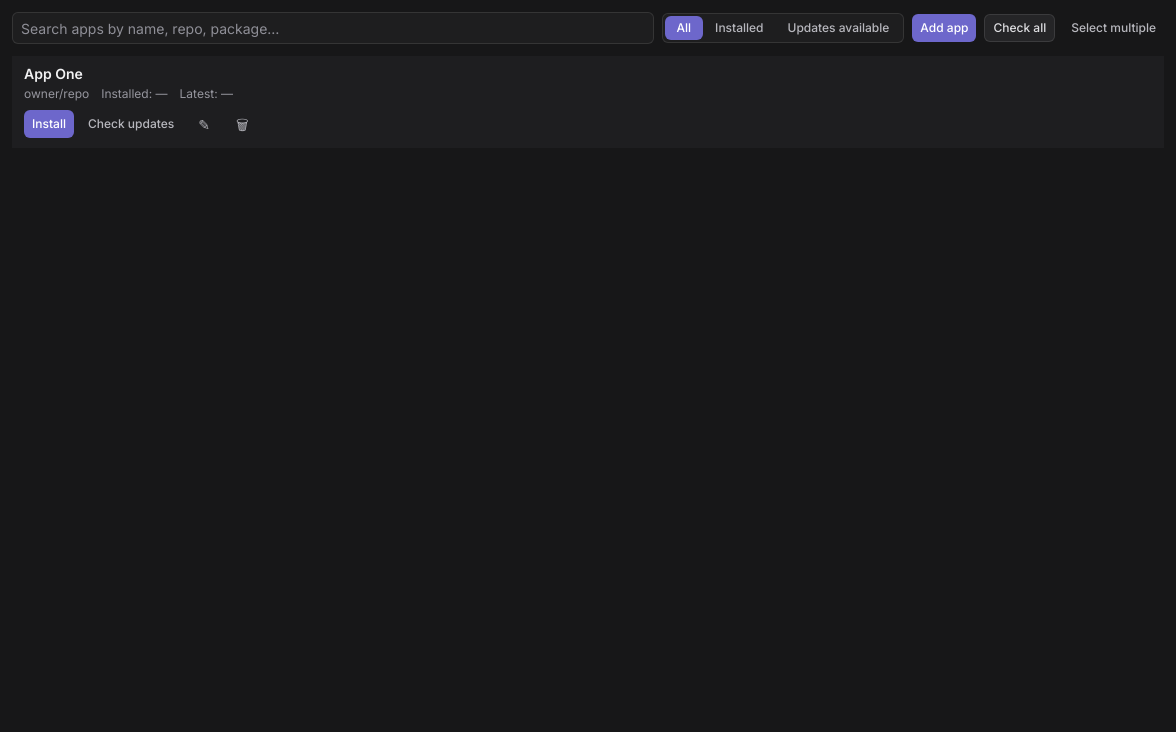
Scenario: error notification › renders a persistent alert when an action rejects
This screenshot has width=1176, height=732.
Click the button named "Install App One": click(49, 124) 24,110 -> 74,138
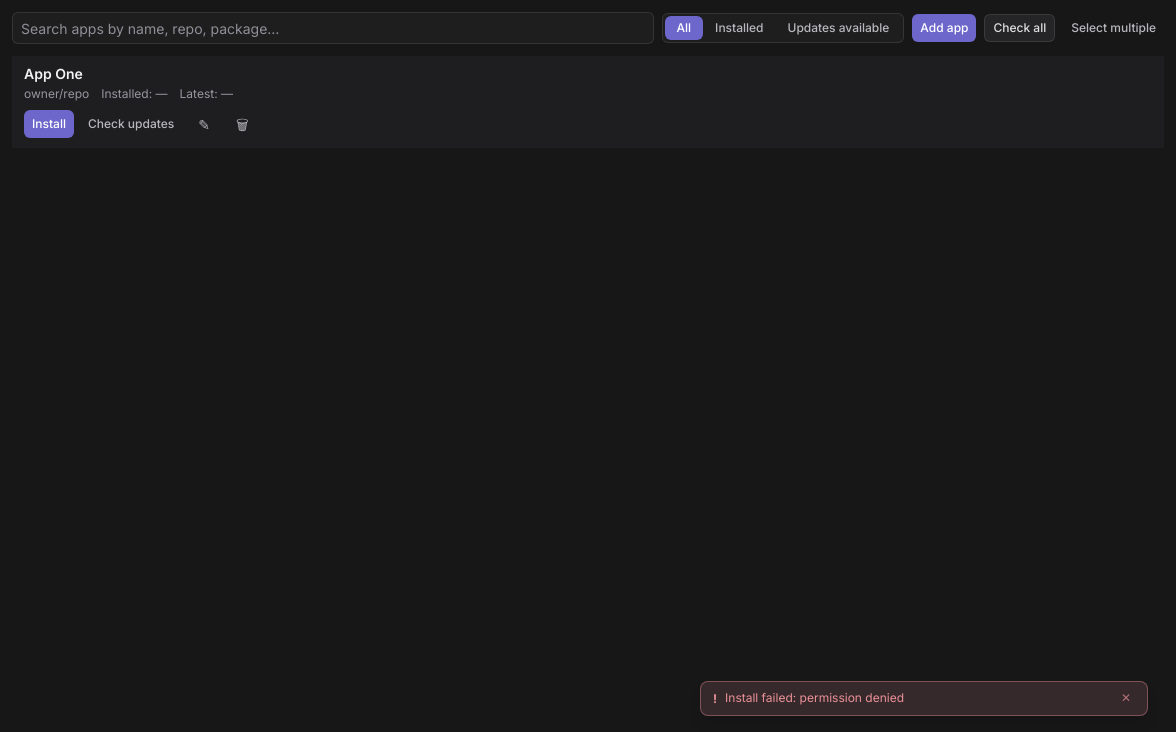
Expected: the message shows "Install failed: permission denied", 725,690 -> 904,705
